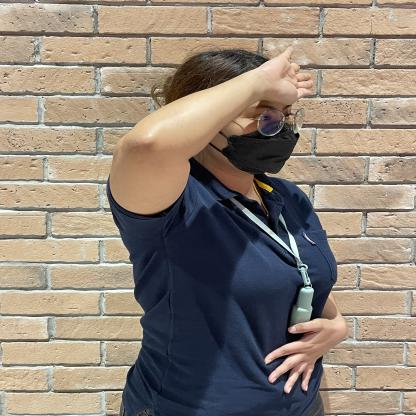Sick: (117, 29, 336, 166)
